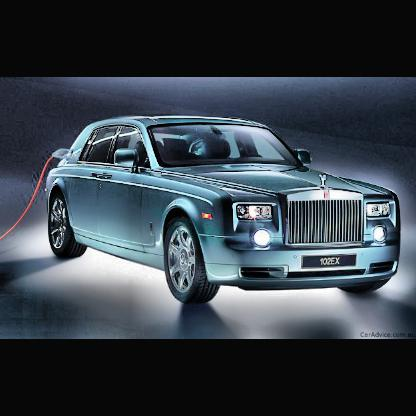Rolls-Royce Phantom Sedan 2012: (46, 116, 400, 307)
